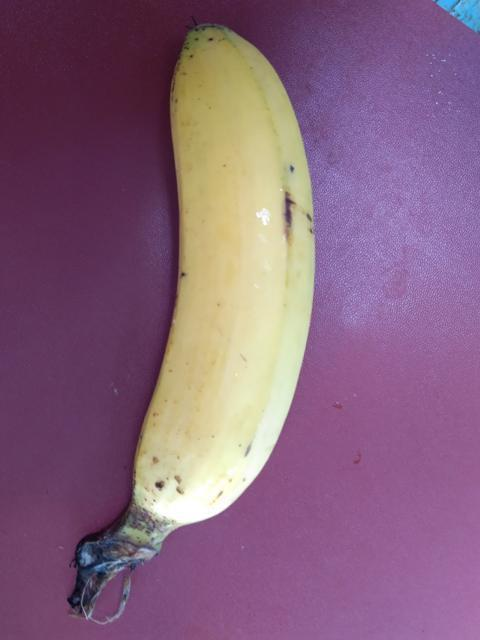freshripe: (80, 18, 362, 624)
